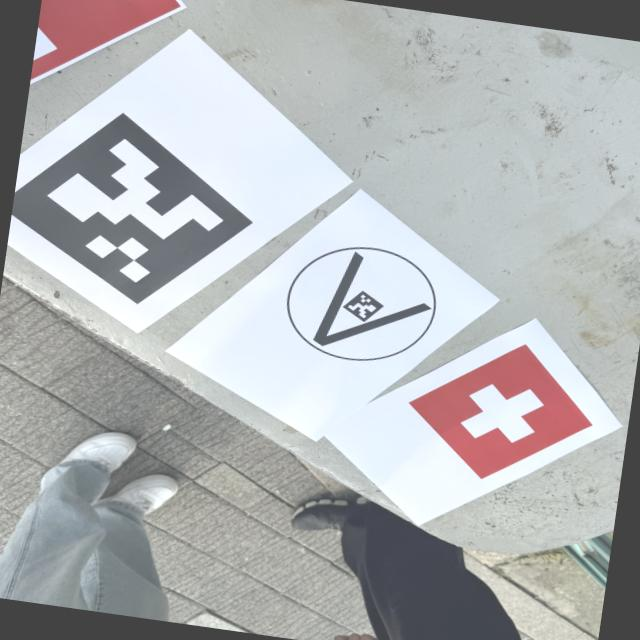ArUro mark: (12, 113, 252, 303)
rescue point: (409, 344, 592, 480)
vertiport: (276, 234, 446, 373)
